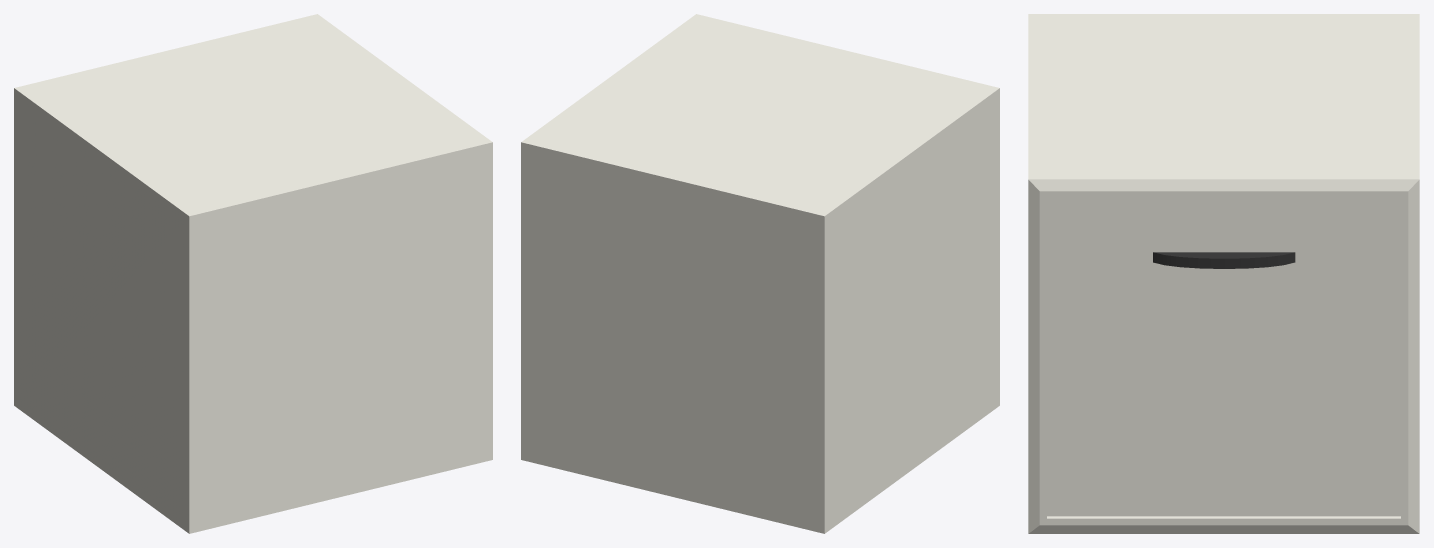
Rendered from Kitchen_Single_Top_Shelf.fbx.
3 renders of one model, left to right at view 1: azimuth 30°, elevation 25°; view 2: azimuth 150°, elevation 25°; view 3: azimuth 270°, elevation 25°, orthographic. The views are drawn at different scales.
Parts seen in each view (by area): view 1: pCube9; view 2: pCube9; view 3: pCube9.
Part boxes in pixels (left/top/right/bottom): pCube9: left=14, top=14, right=492, bottom=533; pCube9: left=521, top=14, right=999, bottom=533; pCube9: left=1028, top=14, right=1419, bottom=533.
Bounding box in the file's own units: 20.69 × 19.97 × 19.97.
